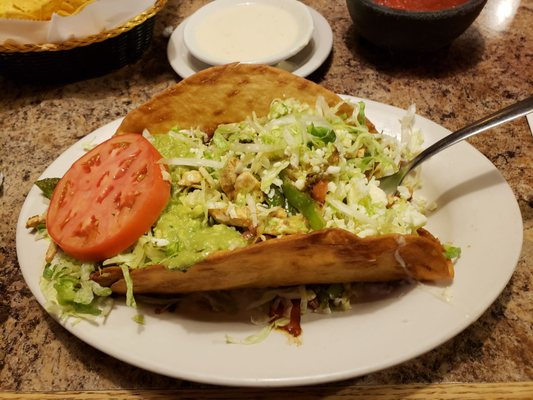soup: (27, 61, 504, 341)
sushi: (169, 0, 315, 79), (345, 0, 490, 54)
